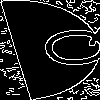Q: (24, 25, 100, 71)
